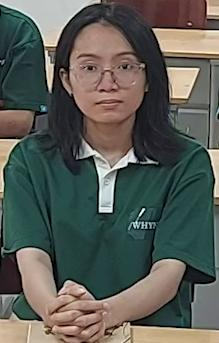Looking_Forward: (6, 4, 219, 343)
